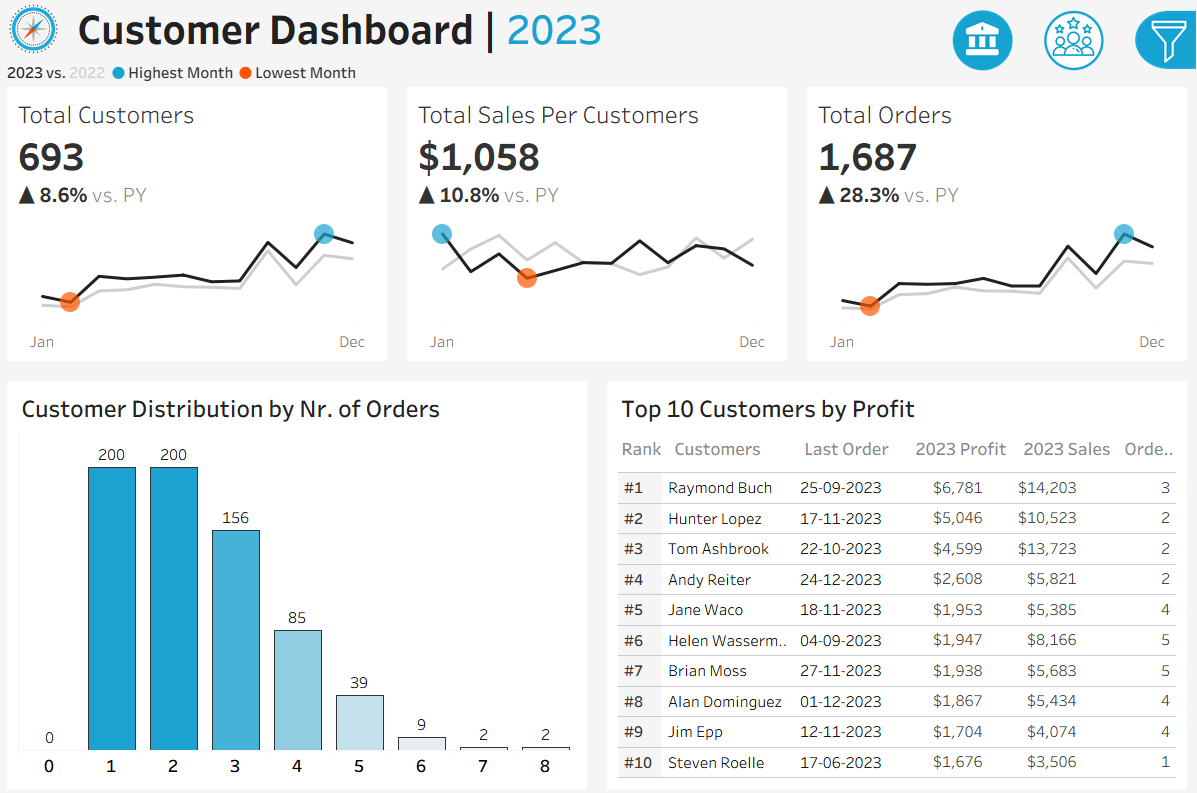

This screenshot's page, from the dashboard's own definition file:
{"tool":"tableau","page":{"name":"Customer Dashboard","canvas":[1200,800],"ordinal":0},"visuals":[{"type":"image","param":"Image/Icon - Logo.png","box":[0,0,73,59]},{"type":"text","box":[73,0,820,59]},{"type":"dashboard-object","box":[940,6,91,70]},{"type":"dashboard-object","box":[1031,6,91,70]},{"type":"blank","box":[952,10,237,86]},{"type":"worksheet","title":"Legend KPI","mark":"Automatic","box":[0,59,1200,29]},{"type":"worksheet","title":"KPI Customers","mark":"Automatic","rows":["Min/Max Quantity (copy)_3221481164588691468"],"cols":["Order Date"],"box":[0,88,400,284]},{"type":"worksheet","title":"KPI Sales Per Customers","mark":"Automatic","rows":["Min/Max Quantity (copy)_3221481164537155591"],"cols":["Order Date"],"box":[400,88,400,284]},{"type":"worksheet","title":"KPI Orders","mark":"Automatic","rows":["Min/Max Sales (copy)_3221481164601258003"],"cols":["Order Date"],"box":[800,88,400,284]},{"type":"text","box":[952,96,237,40]},{"type":"parameter","param":"[Parameters].[Parameter 1]","box":[952,136,237,56]},{"type":"text","box":[952,192,237,33]},{"type":"filter","title":"KPI Customers","param":"[federated.1kpxa041aiai2y1cl4pui1t4eju9].[none:Category:nk]","box":[952,225,237,61]},{"type":"filter","title":"KPI Customers","param":"[federated.1kpxa041aiai2y1cl4pui1t4eju9].[none:Sub-Category:nk]","box":[952,286,237,61]},{"type":"blank","box":[952,347,237,60]},{"type":"text","box":[17,389,566,40]},{"type":"text","box":[617,389,566,40]},{"type":"text","box":[952,407,237,33]},{"type":"worksheet","title":"Customer Distribution","mark":"Bar","rows":["CY Sales (copy)_3221481164532666369"],"cols":["Calculation_998110323739992064"],"box":[17,429,566,354]},{"type":"text","box":[617,429,53,40]},{"type":"text","box":[670,429,130,40]},{"type":"text","box":[800,429,111,40]},{"type":"text","box":[911,429,108,40]},{"type":"text","box":[1019,429,101,40]},{"type":"text","box":[1120,429,63,40]},{"type":"filter","title":"KPI Customers","param":"[federated.1kpxa041aiai2y1cl4pui1t4eju9].[none:Region:nk]","box":[952,440,237,61]},{"type":"worksheet","title":"Top Customers","mark":"Automatic","rows":["Calculation_782500491678904334","Customer Name","Order Date"],"box":[617,469,566,314]},{"type":"filter","title":"KPI Customers","param":"[federated.1kpxa041aiai2y1cl4pui1t4eju9].[none:State:nk]","box":[952,501,237,61]},{"type":"filter","title":"KPI Customers","param":"[federated.1kpxa041aiai2y1cl4pui1t4eju9].[none:City:nk]","box":[952,562,237,61]}]}

Visuals, with their boxes in screenshot pixels (x1, y1, x2, y2), scaled from the page's 1200x800 canvas onto the 1197x793 screenshot:
image: (0, 0, 73, 58)
text: (73, 0, 891, 58)
dashboard-object: (938, 6, 1028, 75)
dashboard-object: (1028, 6, 1119, 75)
blank: (950, 10, 1186, 95)
"Legend KPI" worksheet: (0, 58, 1196, 87)
"KPI Customers" worksheet: (0, 87, 399, 369)
"KPI Sales Per Customers" worksheet: (399, 87, 798, 369)
"KPI Orders" worksheet: (798, 87, 1196, 369)
text: (950, 95, 1186, 135)
parameter: (950, 135, 1186, 190)
text: (950, 190, 1186, 223)
"KPI Customers" filter: (950, 223, 1186, 283)
"KPI Customers" filter: (950, 283, 1186, 344)
blank: (950, 344, 1186, 403)
text: (17, 386, 582, 425)
text: (615, 386, 1180, 425)
text: (950, 403, 1186, 436)
"Customer Distribution" worksheet (Bar marks): (17, 425, 582, 776)
text: (615, 425, 668, 465)
text: (668, 425, 798, 465)
text: (798, 425, 909, 465)
text: (909, 425, 1016, 465)
text: (1016, 425, 1117, 465)
text: (1117, 425, 1180, 465)
"KPI Customers" filter: (950, 436, 1186, 497)
"Top Customers" worksheet: (615, 465, 1180, 776)
"KPI Customers" filter: (950, 497, 1186, 557)
"KPI Customers" filter: (950, 557, 1186, 618)
